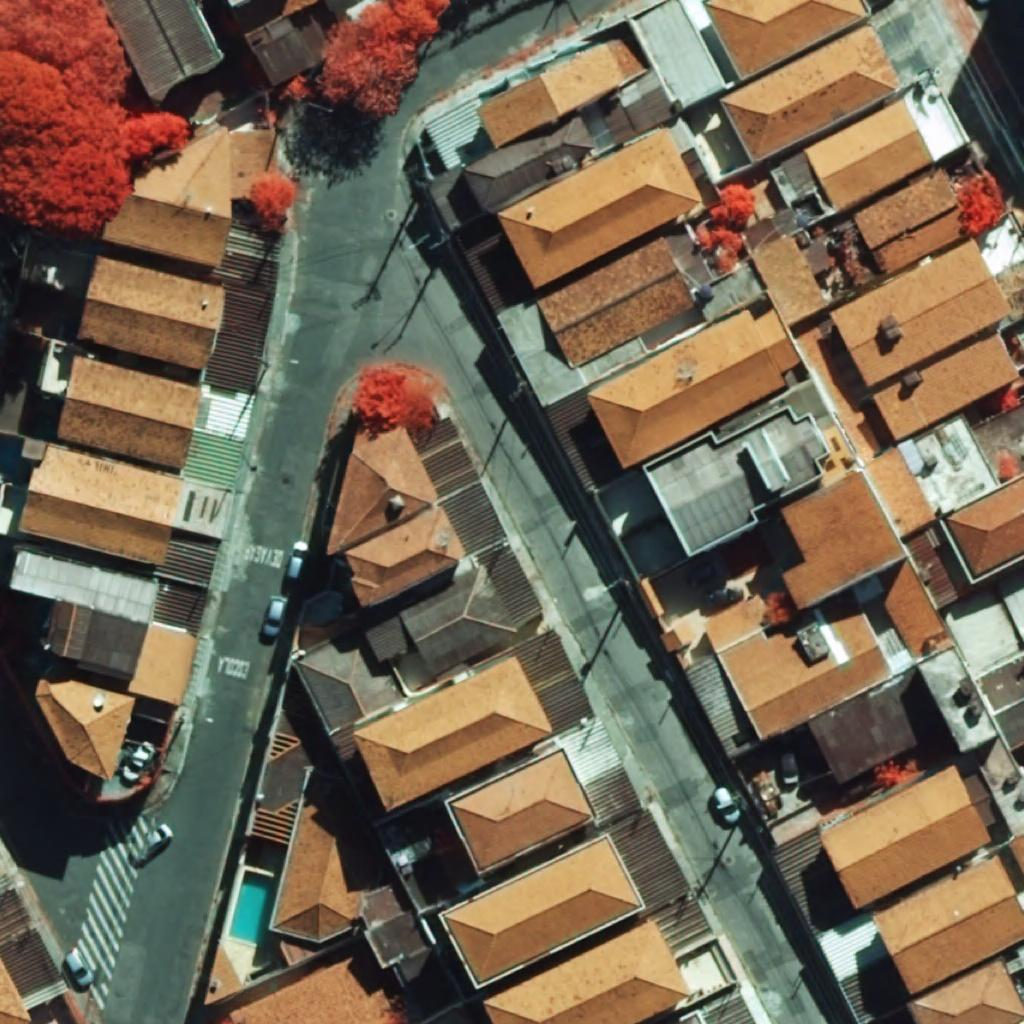pool: (230, 871, 275, 945)
